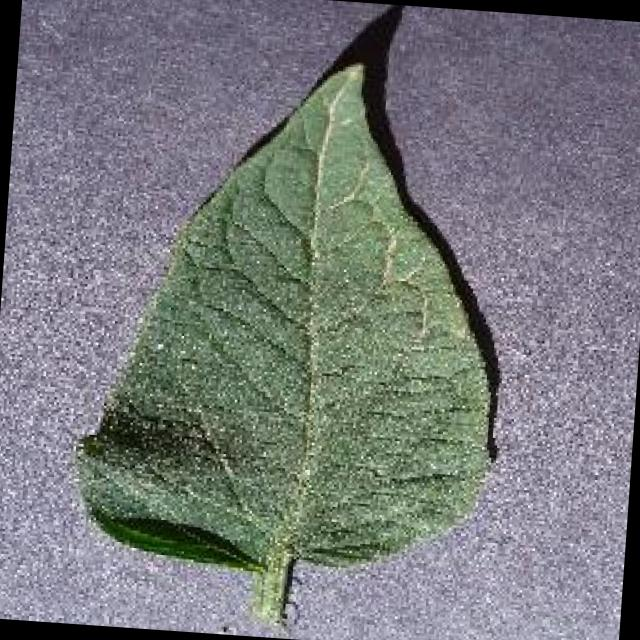Tomato_Healthy: (40, 20, 553, 640)
